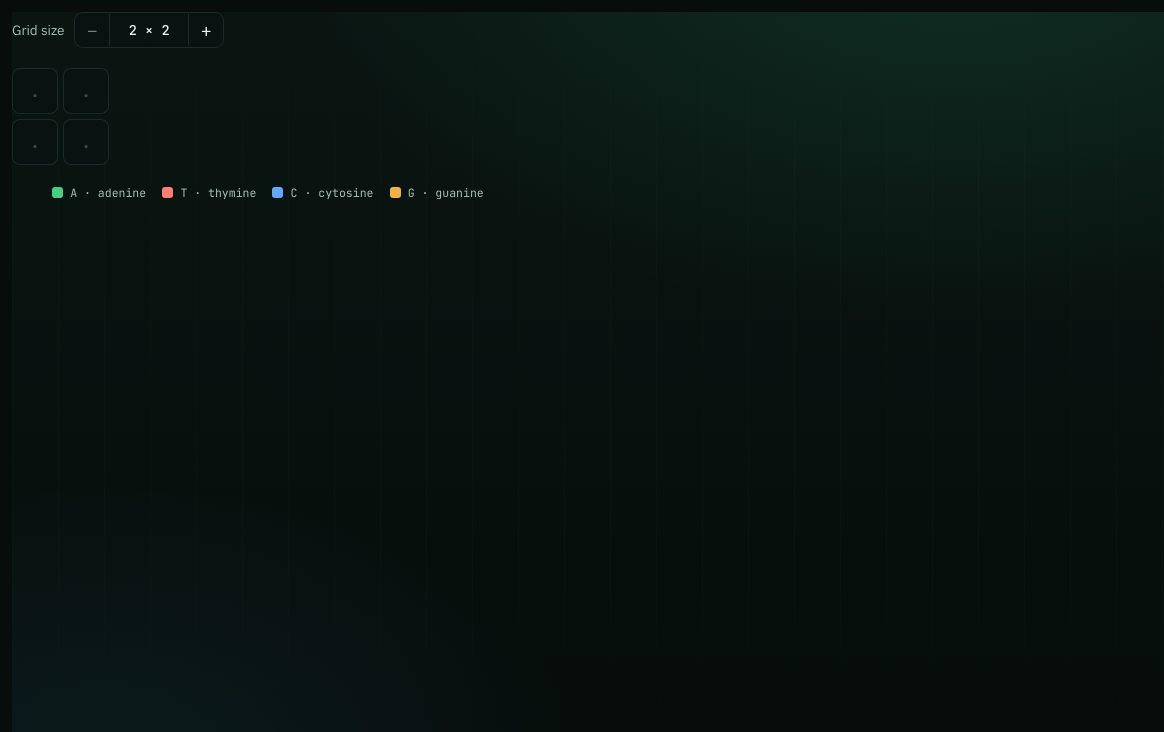
Scenario: GridEditor › auto-advances focus to the next cell after a valid base
Click the field named "Row 1, column 1" at (35, 91), box [12, 68, 58, 114]
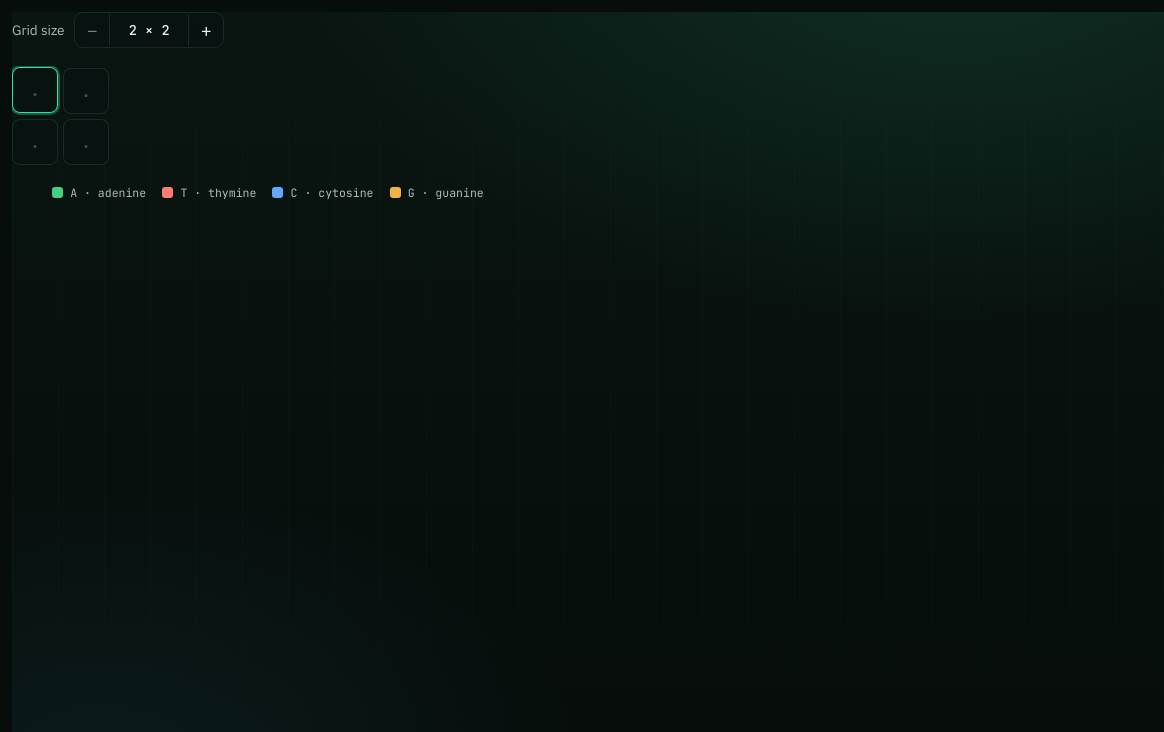
Type keys "t"
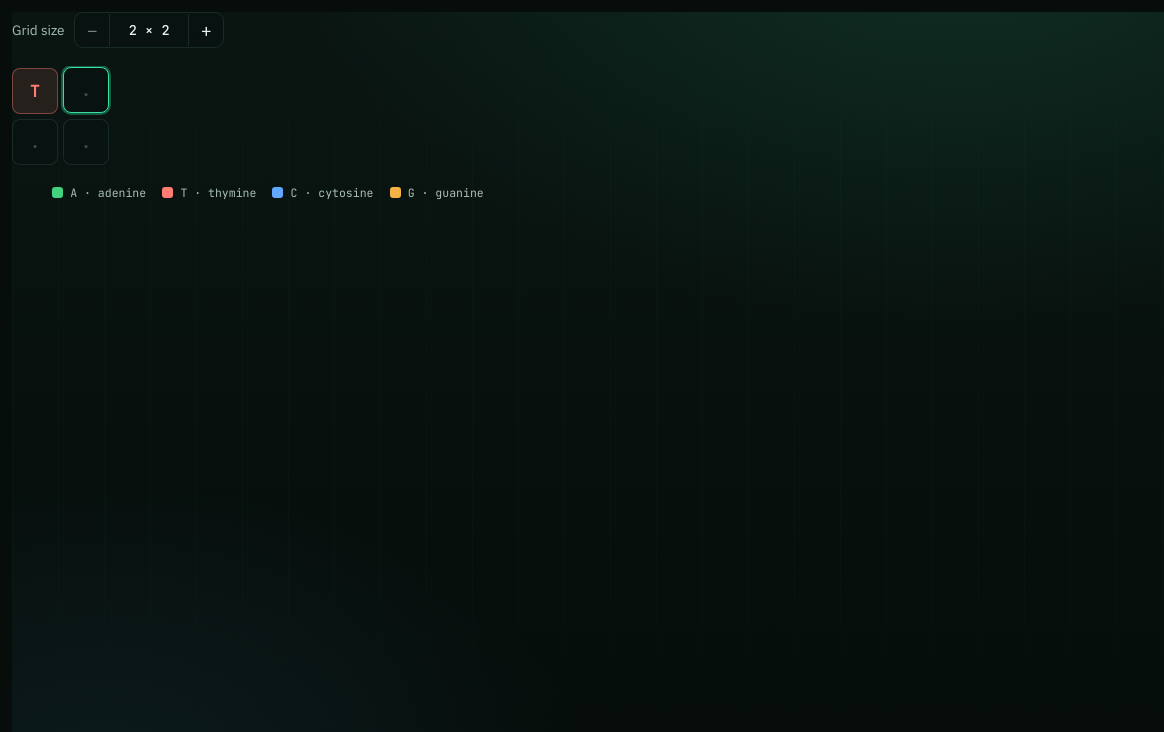
Check: the field named "Row 1, column 1" holds "T", box [12, 68, 58, 114]
